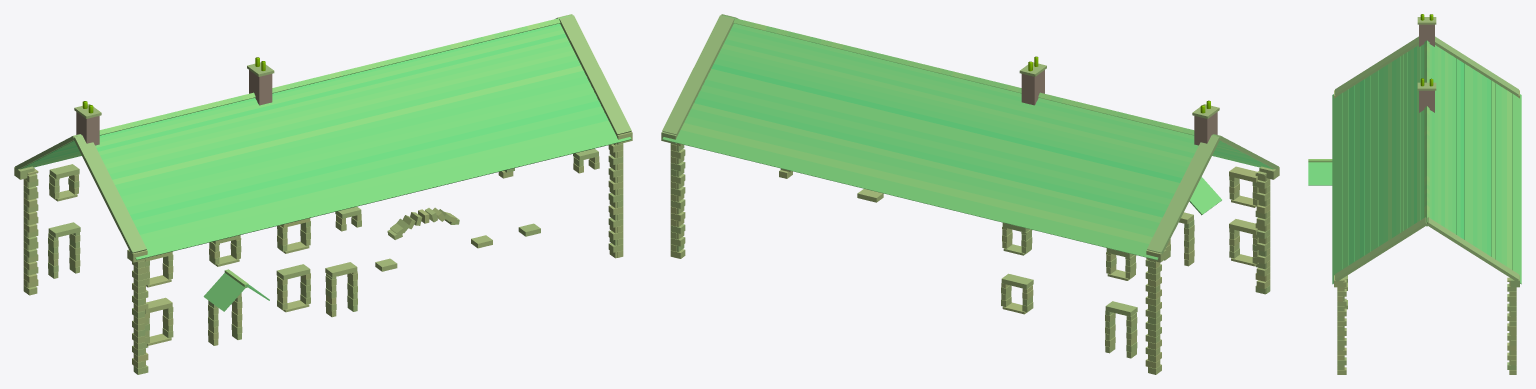
File: SM_Bld_061_Stone.glb
The picture shows the model from 3 angles, left to right: view 1: azimuth 30°, elevation 25°; view 2: azimuth 150°, elevation 25°; view 3: azimuth 270°, elevation 25°; orthographic projection. The views are drawn at different scales.
Parts seen in each view (by area): view 1: SM_Bld_061_Stone; view 2: SM_Bld_061_Stone; view 3: SM_Bld_061_Stone.
Boxes of the visible parts, x1,y1,x2,y2 form: SM_Bld_061_Stone: (14,14,632,374); SM_Bld_061_Stone: (661,14,1279,374); SM_Bld_061_Stone: (1308,14,1521,374).
Bounding box in the file's own units: 25.03 × 11 × 11.87.
